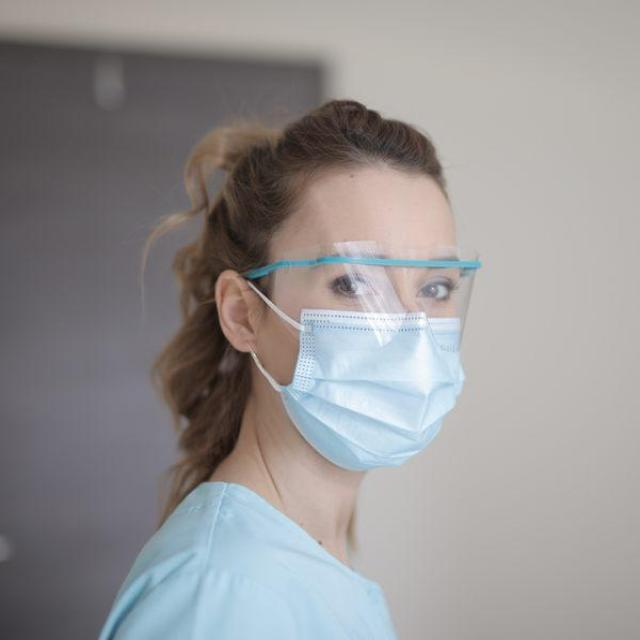Mask: (272, 306, 464, 480)
